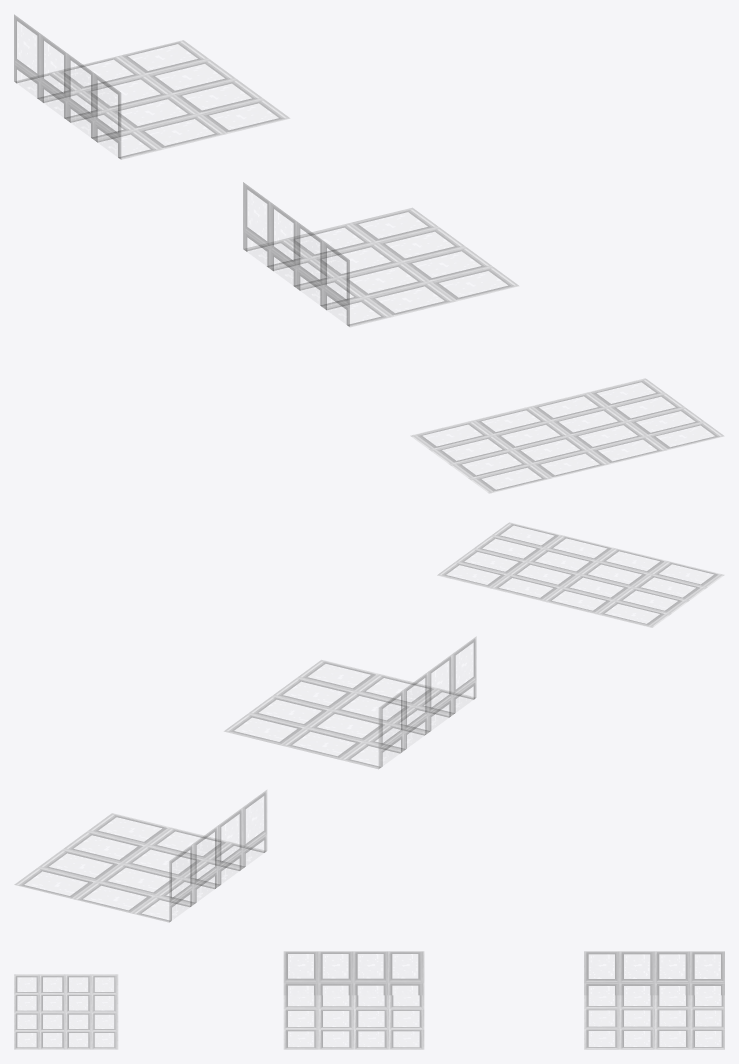
The model's file is Archives_Alpha_7.glb.
The picture shows the model from 3 angles, top to bottom: view 1: azimuth 30°, elevation 25°; view 2: azimuth 150°, elevation 25°; view 3: azimuth 270°, elevation 25°; orthographic projection. The views are drawn at different scales.
Parts seen in each view (by area): view 1: Archives_Alpha_7; view 2: Archives_Alpha_7; view 3: Archives_Alpha_7.
Boxes of the visible parts, x1,y1,x2,y2 form: Archives_Alpha_7: (14,14,723,493); Archives_Alpha_7: (14,522,723,922); Archives_Alpha_7: (14,951,724,1049).
Size of the model in its own units: 16.5 by 4.5 by 65.62.
1 material, 1 textured.
